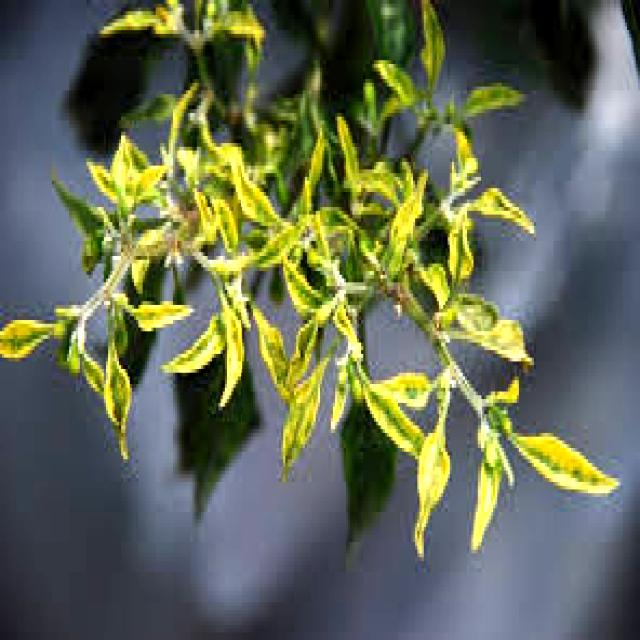yellowish leaf: (5, 58, 630, 580)
